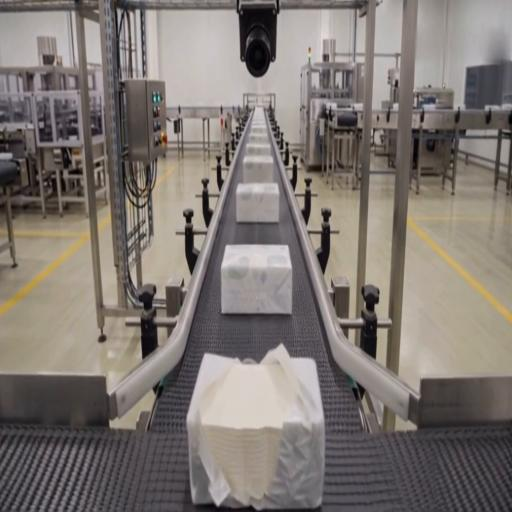defective: (188, 348, 325, 510)
good: (220, 244, 292, 316), (235, 182, 281, 224), (242, 154, 275, 184), (245, 139, 271, 157), (248, 119, 269, 135), (250, 108, 268, 122)
